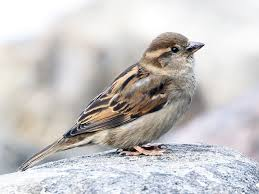hsparrow: (7, 28, 224, 173)
